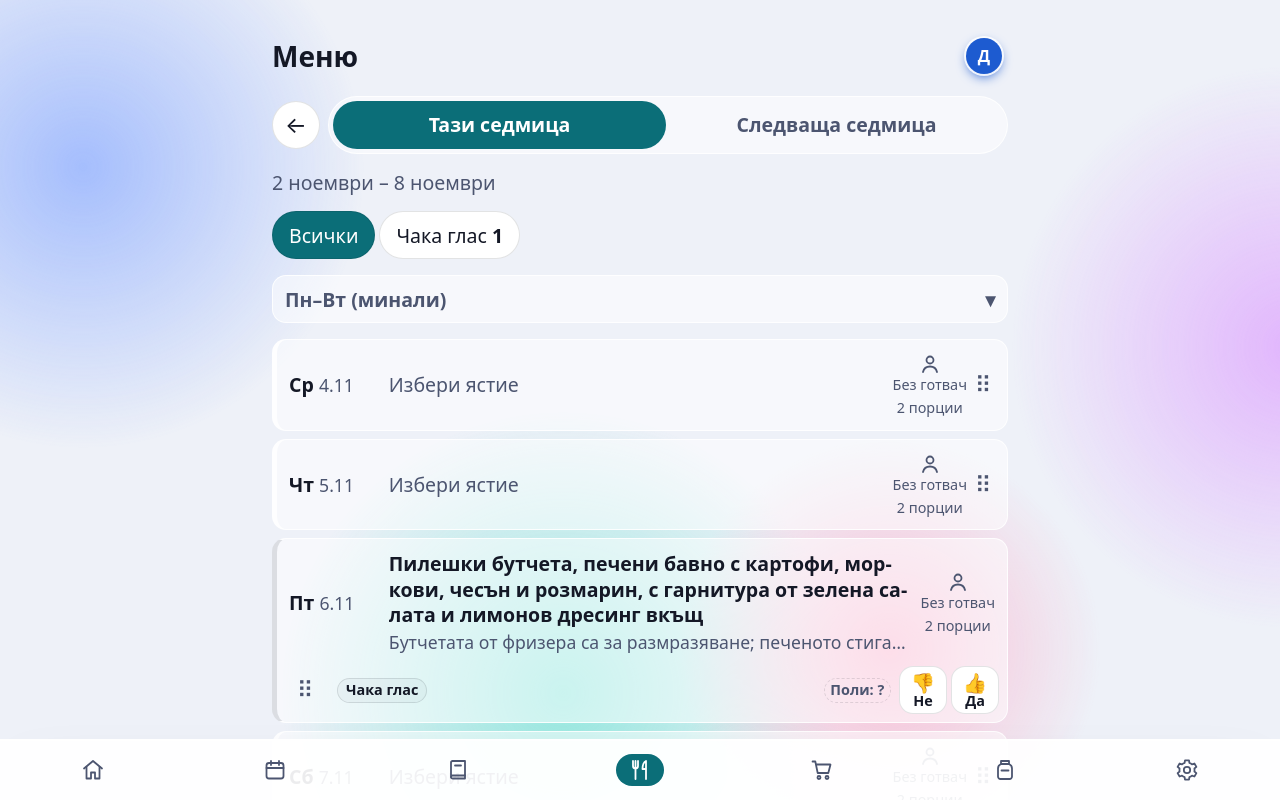
Test case: MenuWeek: гласове › листът на ястието показва цялото заглавие и цялото „защо“, които редът съкращава
Click the button named "Пилешки бутчета, печени бавно с картофи, моркови, чесън и розмарин, с гарнитура от зелена салата и лимонов дресинг вкъщ" at coordinates (642, 603), box [277,539,1007,666]
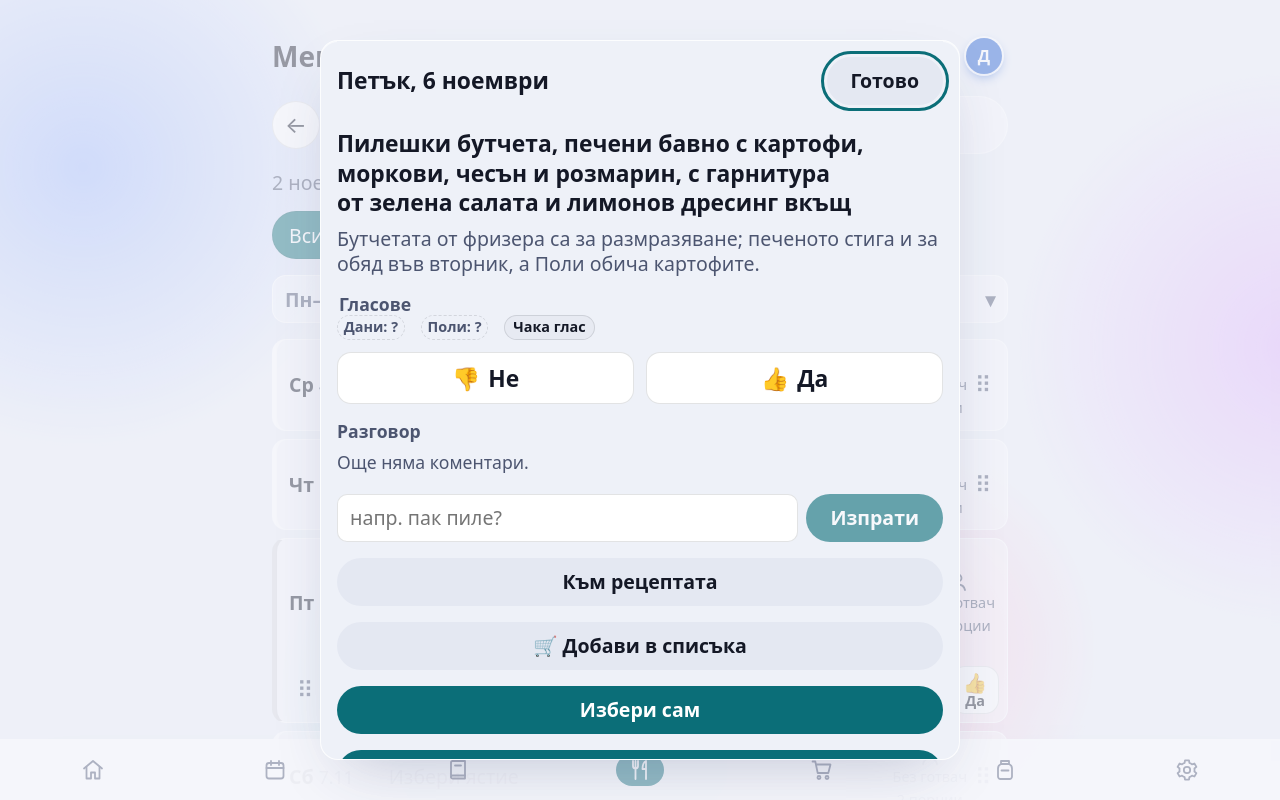
Result: the heading named "Пилешки бутчета, печени бавно с картофи, моркови, чесън и розмарин, с гарнитура от зелена салата и лимонов дресинг вкъщ" is shown at [337,129,943,218]
Result: the text "Бутчетата от фризера са за размразяване; печеното стига и за обяд във вторник, а Поли обича картофите." is shown at [337,225,938,277]
